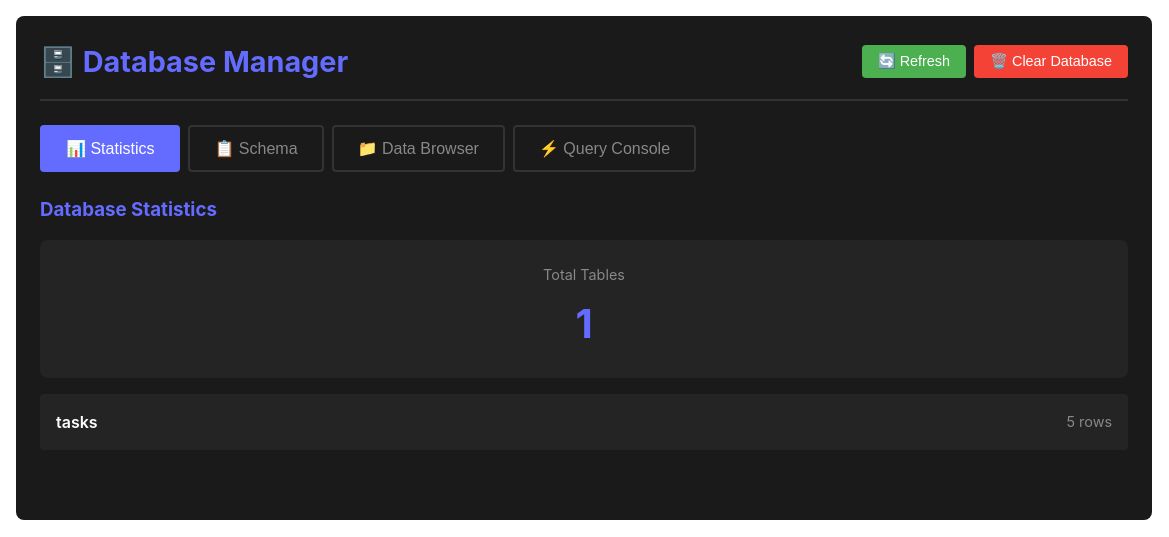
Test: DatabaseManager › Schema Tab › switches to schema tab when clicked
Click the button "📋 Schema" at (256, 149), box [188, 125, 324, 172]
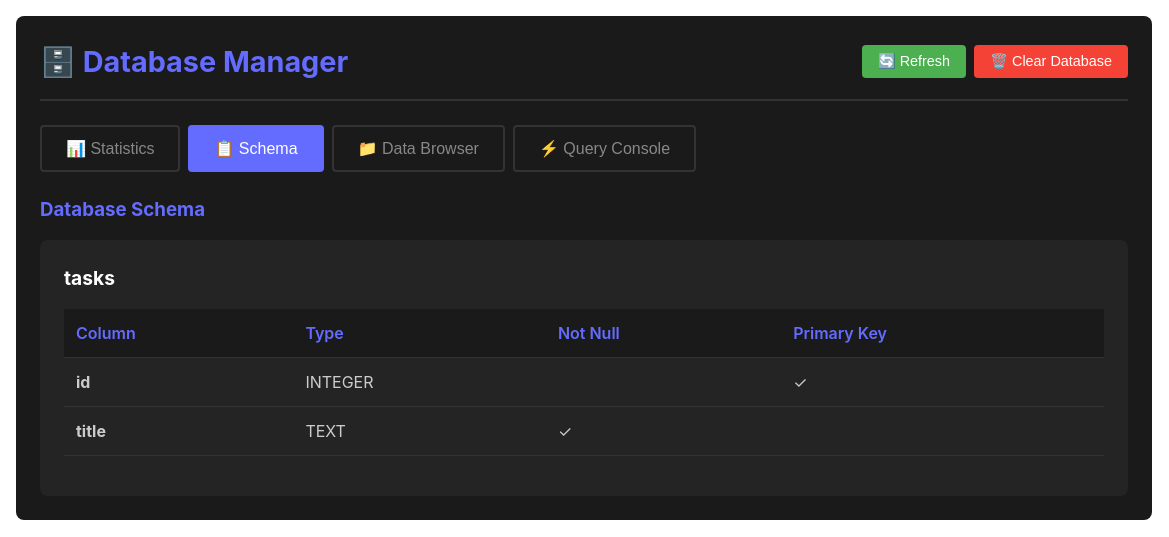
Now the heading "Database Schema" is shown, box [40, 198, 205, 221]
